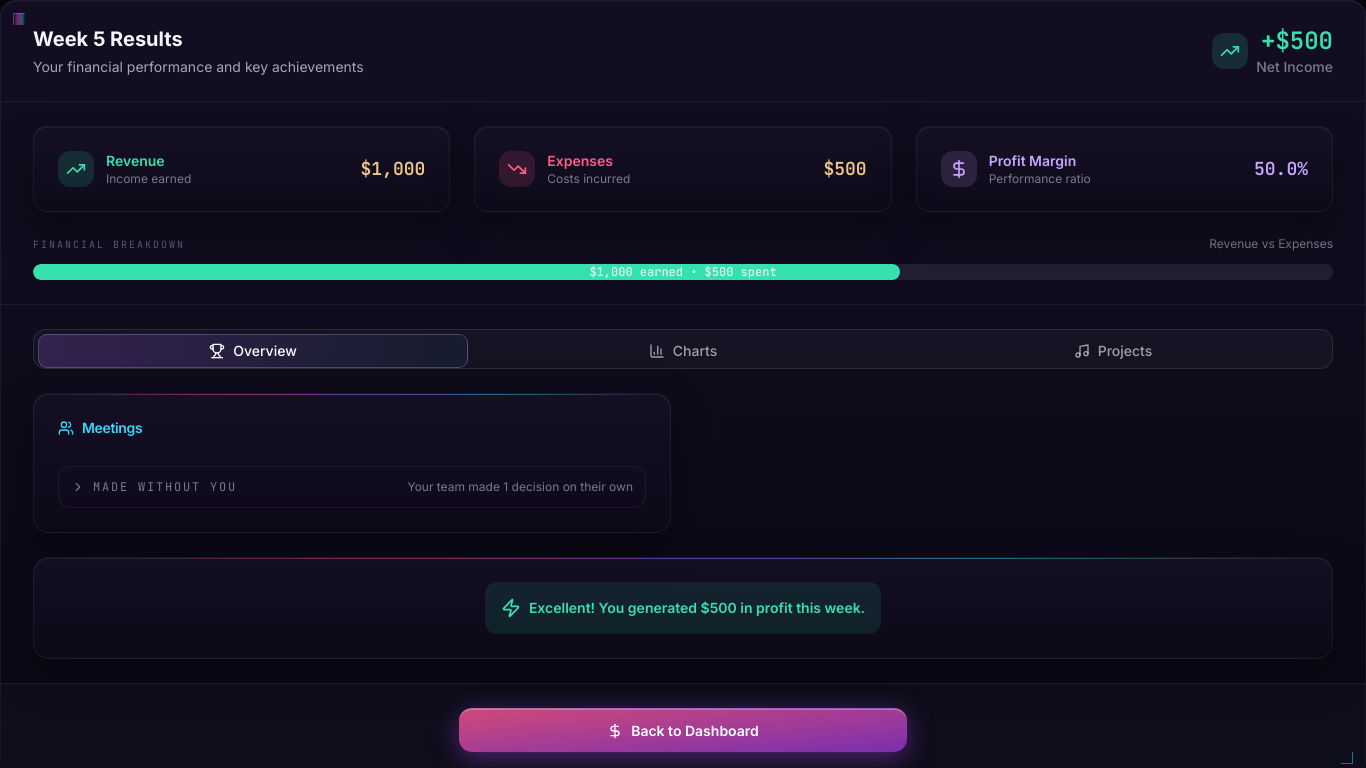
WeekSummary "While you were out" digest › expands to show entries with exec attribution and effect badges on click
This screenshot has width=1366, height=768.
What coordinates should you click on to do the following:
click the button with test id "autonomous-digest-toggle"
I would click on:
 (165, 487)
Its box is [58, 466, 646, 508].
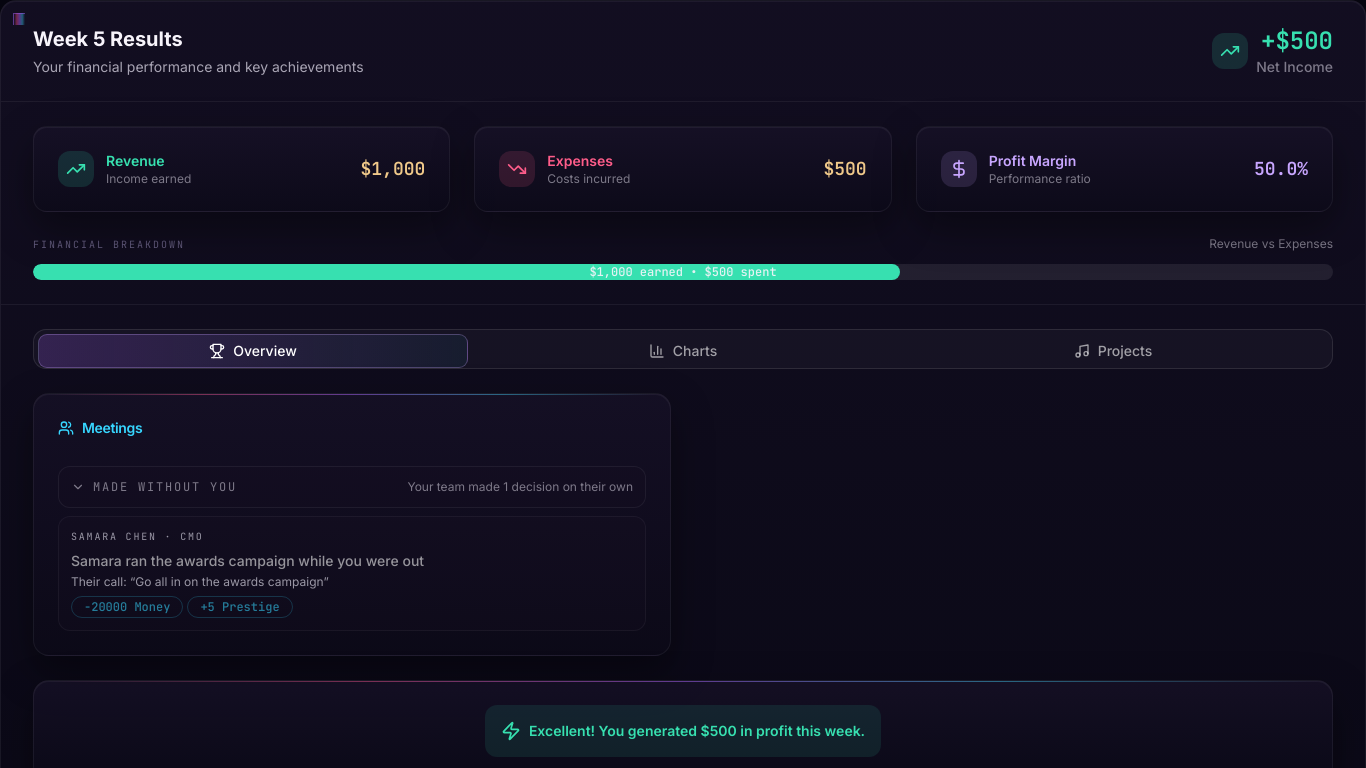
Result: the text "Samara ran the awards campaign while you were out" is shown at [71, 552, 424, 569]
Result: the text "Samara Chen · CMO" is shown at [71, 530, 204, 543]
Result: the text "Their call: “Go all in on the awards campaign”" is shown at [71, 574, 329, 589]
Clicking again collapses it.
What coordinates should you click on to do the following:
click the button with test id "autonomous-digest-toggle"
I would click on:
 (165, 487)
Its box is [58, 466, 646, 508].
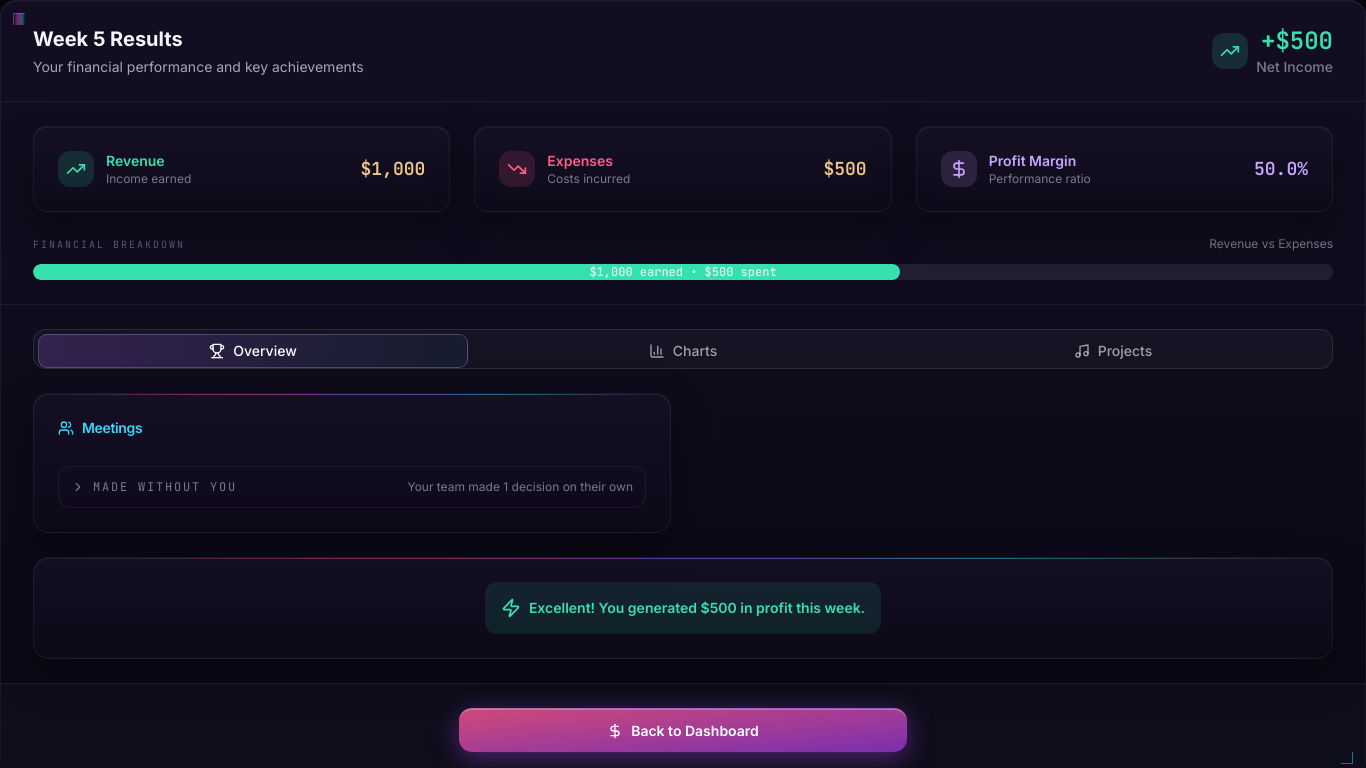
Result: the text "Samara ran the awards campaign while you were out" is gone
